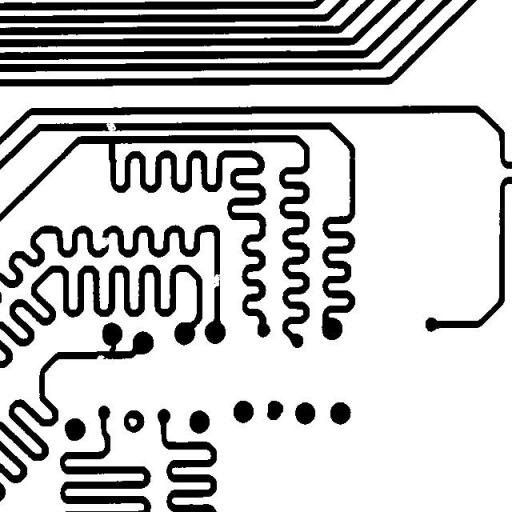copper: (260, 393, 290, 427)
mousebite: (89, 347, 112, 367)
open: (203, 266, 230, 296), (91, 230, 118, 255), (98, 116, 124, 138)
pin-hole: (121, 410, 144, 434)
short: (101, 132, 124, 171), (102, 329, 123, 364)
